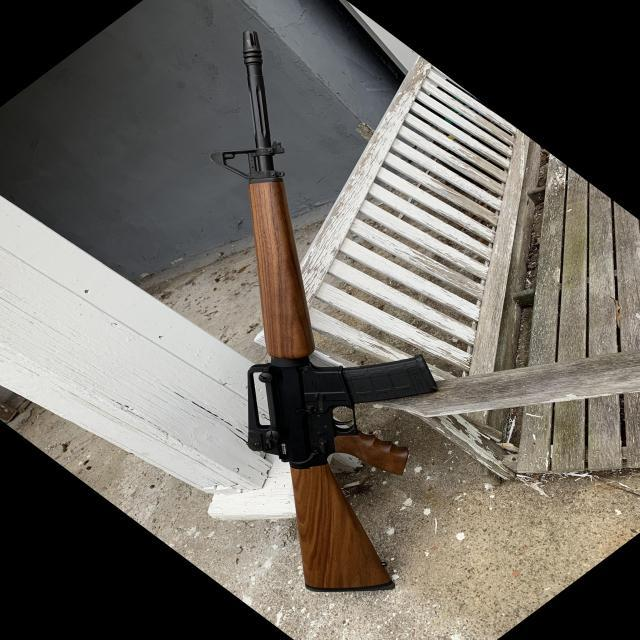weapon: (218, 31, 442, 592)
